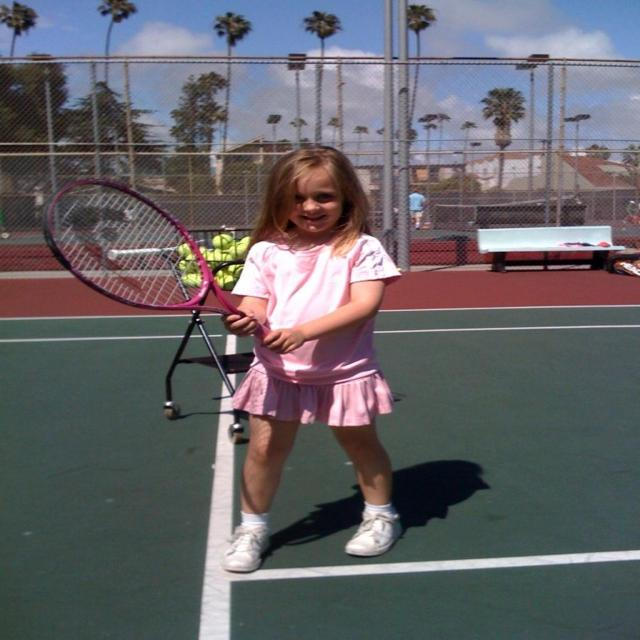nomask: (282, 170, 344, 235)
